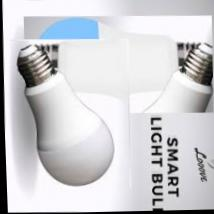Bulb: (21, 12, 214, 115), (7, 37, 132, 190)
